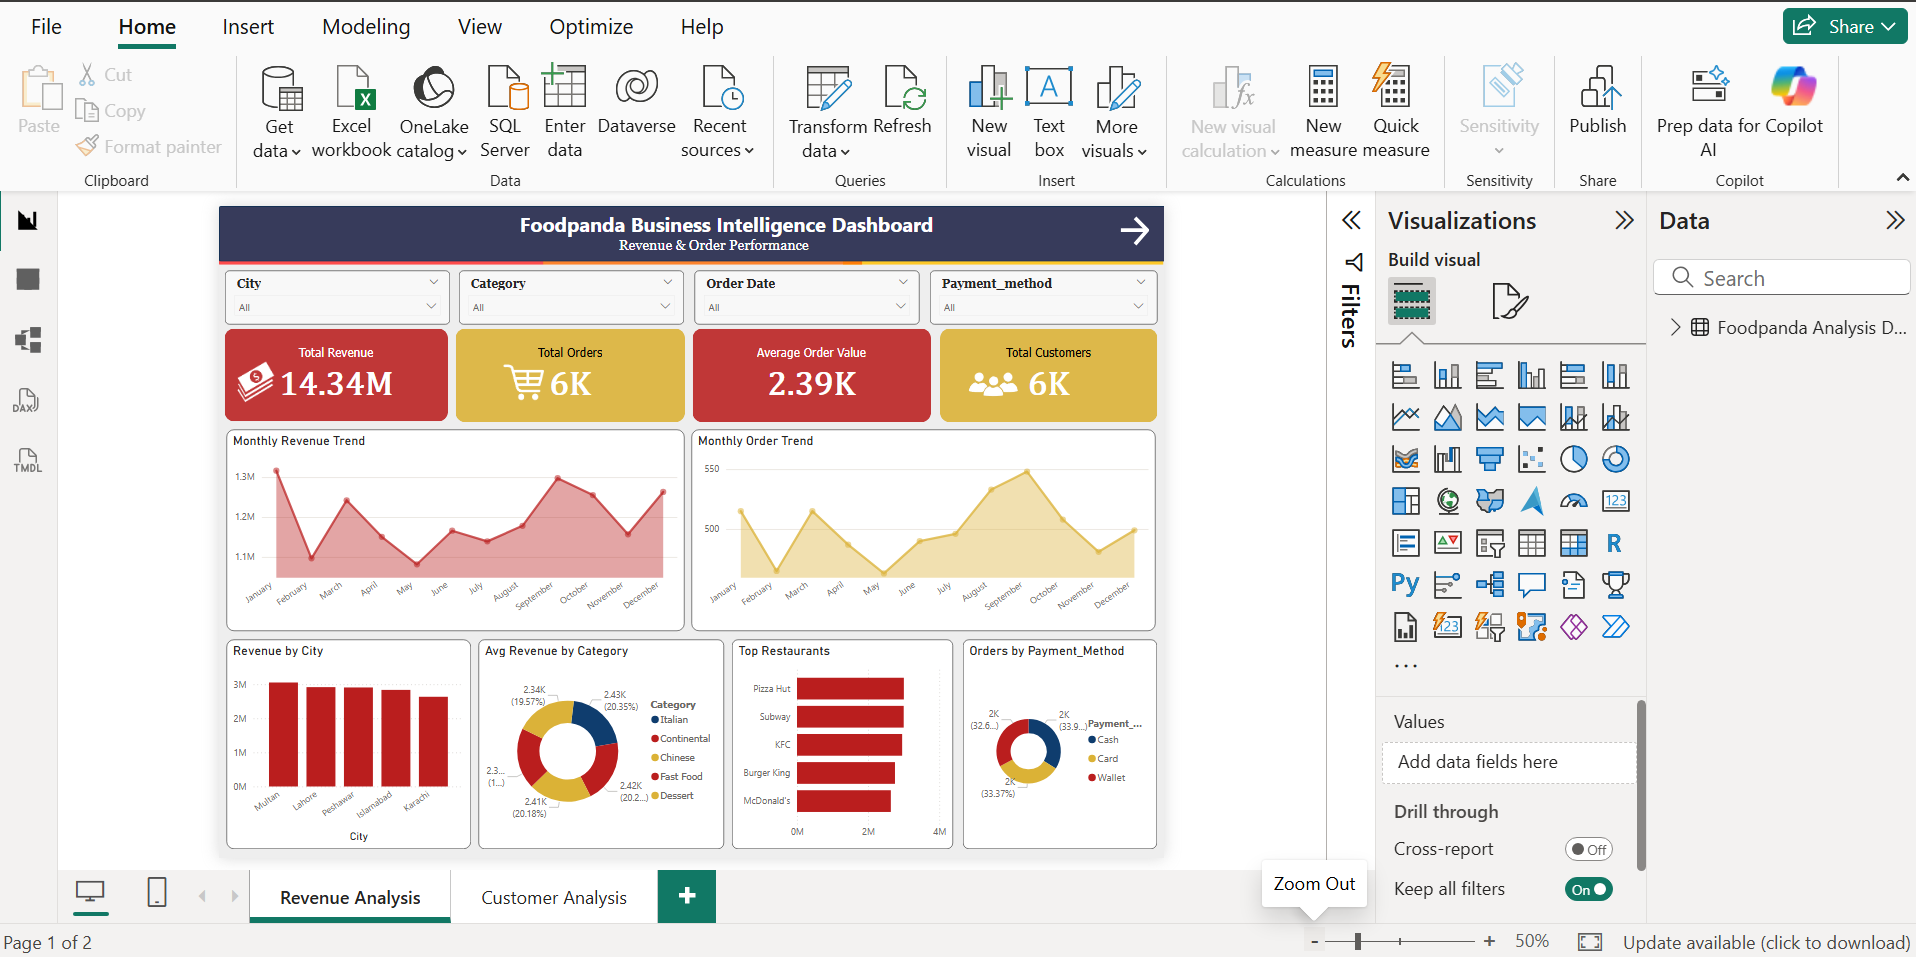

This screenshot's page, from the dashboard's own definition file:
{"tool":"powerbi","page":{"name":"Revenue Analysis","canvas":[1260,869],"ordinal":0},"visuals":[{"type":"shape","box":[832.4,69,427.6,10.3],"z":0},{"type":"shape","box":[431,69,425.9,10.3],"z":1000},{"type":"shape","box":[0,69,432.8,10.3],"z":2000},{"type":"shape","box":[0,0,1279.3,74.1],"z":3000},{"type":"textbox","box":[395,0,580,61.7],"z":4000},{"type":"textbox","box":[528.3,36.7,270,38.3],"z":5000},{"type":"cardVisual","fields":{"Data":["Foodpanda Analysis Dataset.Total Revenue"]},"box":[2,158,308,134],"z":6000},{"type":"cardVisual","fields":{"Data":["Foodpanda Analysis Dataset.Total Orders"]},"box":[310,158,316.7,135],"z":7000},{"type":"cardVisual","fields":{"Data":["Foodpanda Analysis Dataset.Average Order Value"]},"box":[626.7,158,328.3,135],"z":8000},{"type":"cardVisual","fields":{"Data":["Foodpanda Analysis Dataset.Total Customers"]},"box":[956.7,158,300,135],"z":9000},{"type":"areaChart","title":"Monthly Revenue Trend","fields":{"Category":["Foodpanda Analysis Dataset.order_date.Variation.Date Hierarchy.Month"],"Y":["Foodpanda Analysis Dataset.Total Revenue"]},"box":[10.2,297.1,610.3,269],"z":10000},{"type":"areaChart","title":"Monthly Order Trend","fields":{"Category":["Foodpanda Analysis Dataset.order_date.Variation.Date Hierarchy.Month"],"Y":["Foodpanda Analysis Dataset.Total Orders"]},"box":[630.9,297.1,619,269],"z":11000},{"type":"columnChart","title":"Revenue by City","fields":{"Category":["Foodpanda Analysis Dataset.city"],"Y":["Sum(Foodpanda Analysis Dataset.Revenue)"]},"box":[10.2,578.2,325.9,279.3],"z":12000},{"type":"donutChart","title":"Avg Revenue by Category","fields":{"Category":["Foodpanda Analysis Dataset.category"],"Y":["Foodpanda Analysis Dataset.Average Revenue"]},"box":[346.5,578.2,327.6,279.3],"z":13000},{"type":"clusteredBarChart","title":"Top Restaurants","fields":{"Category":["Foodpanda Analysis Dataset.restaurant_name"],"Y":["Sum(Foodpanda Analysis Dataset.Revenue)"]},"box":[684.4,578.2,294.8,279.3],"z":14000},{"type":"donutChart","title":"Orders by Payment_Method","fields":{"Category":["Foodpanda Analysis Dataset.payment_method"],"Y":["Foodpanda Analysis Dataset.Total Orders"]},"box":[991.3,578.2,258.6,279.3],"z":15000},{"type":"actionButton","box":[1196.6,6.9,48.3,55.2],"z":16000},{"type":"slicer","fields":{"Values":["Foodpanda Analysis Dataset.City"]},"box":[8,86,300,72],"z":17000},{"type":"slicer","fields":{"Values":["Foodpanda Analysis Dataset.Category"]},"box":[320,86,300,72],"z":18000},{"type":"slicer","fields":{"Values":["Foodpanda Analysis Dataset.payment_method"]},"box":[948,86,303,72],"z":19000},{"type":"slicer","fields":{"Values":["Foodpanda Analysis Dataset.order_date.Variation.Date Hierarchy.Year","Foodpanda Analysis Dataset.order_date.Variation.Date Hierarchy.Quarter","Foodpanda Analysis Dataset.order_date.Variation.Date Hierarchy.Month"]},"box":[634,86,300,72],"z":20000},{"type":"image","box":[972,186,120,110],"z":21000},{"type":"image","box":[374,194,64,82],"z":21001},{"type":"image","box":[8,196,82,76],"z":21002}]}

Visuals, with their boxes on the page's 1260x869 design canvas (x1, y1, x2, y2). These are canvas units, not pixel positions in the 1916x957 screenshot, which may show the page scaled, cropped or inside an application window:
shape: region(832, 69, 1260, 79)
shape: region(431, 69, 857, 79)
shape: region(0, 69, 433, 79)
shape: region(0, 0, 1279, 74)
textbox: region(395, 0, 975, 62)
textbox: region(528, 37, 798, 75)
cardVisual - Foodpanda Analysis Dataset.Total Revenue: region(2, 158, 310, 292)
cardVisual - Foodpanda Analysis Dataset.Total Orders: region(310, 158, 627, 293)
cardVisual - Foodpanda Analysis Dataset.Average Order Value: region(627, 158, 955, 293)
cardVisual - Foodpanda Analysis Dataset.Total Customers: region(957, 158, 1257, 293)
"Monthly Revenue Trend" areaChart: region(10, 297, 620, 566)
"Monthly Order Trend" areaChart: region(631, 297, 1250, 566)
"Revenue by City" columnChart: region(10, 578, 336, 858)
"Avg Revenue by Category" donutChart: region(346, 578, 674, 858)
"Top Restaurants" clusteredBarChart: region(684, 578, 979, 858)
"Orders by Payment_Method" donutChart: region(991, 578, 1250, 858)
actionButton: region(1197, 7, 1245, 62)
slicer - Foodpanda Analysis Dataset.City: region(8, 86, 308, 158)
slicer - Foodpanda Analysis Dataset.Category: region(320, 86, 620, 158)
slicer - Foodpanda Analysis Dataset.payment_method: region(948, 86, 1251, 158)
slicer - Foodpanda Analysis Dataset.order_date.Variation.Date Hierarchy.Year x Foodpanda Analysis Dataset.order_date.Variation.Date Hierarchy.Quarter: region(634, 86, 934, 158)
image: region(972, 186, 1092, 296)
image: region(374, 194, 438, 276)
image: region(8, 196, 90, 272)
